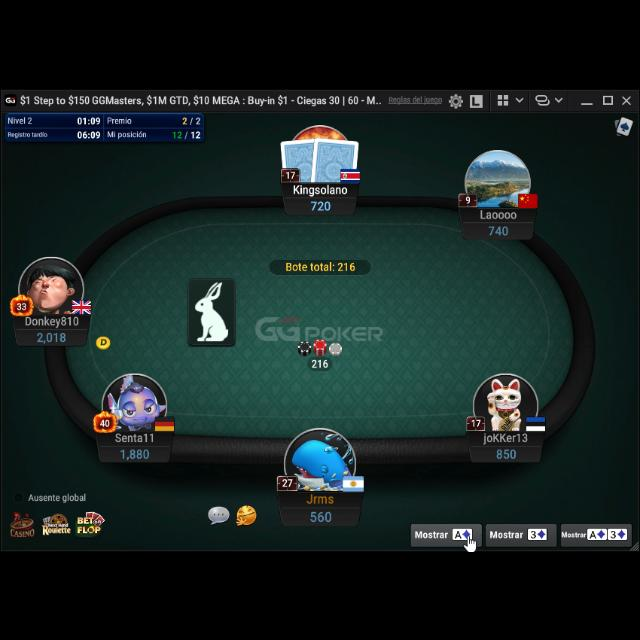bet_text: (310, 357, 330, 368)
card_back: (310, 132, 360, 180), (279, 134, 321, 180)
dealer: (95, 334, 112, 351)
pot_text: (283, 258, 357, 272)
stack_text: (36, 328, 68, 342), (120, 444, 152, 458), (307, 506, 333, 522), (308, 198, 332, 212), (488, 223, 510, 237), (495, 448, 517, 460)
